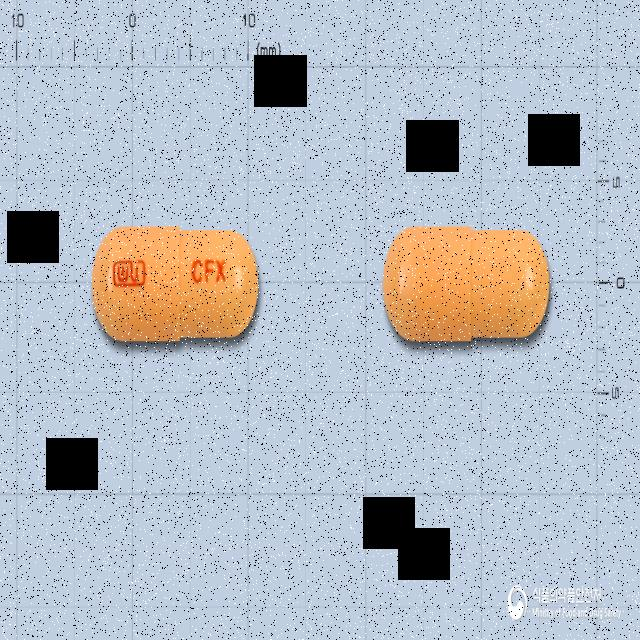Cefixime Cap- Withus: (90, 221, 264, 353)
